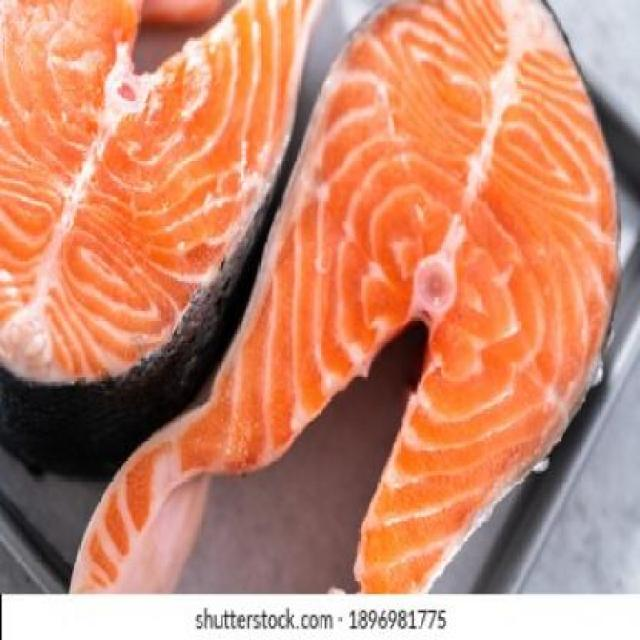salmon: (61, 1, 640, 590), (1, 3, 322, 408)
